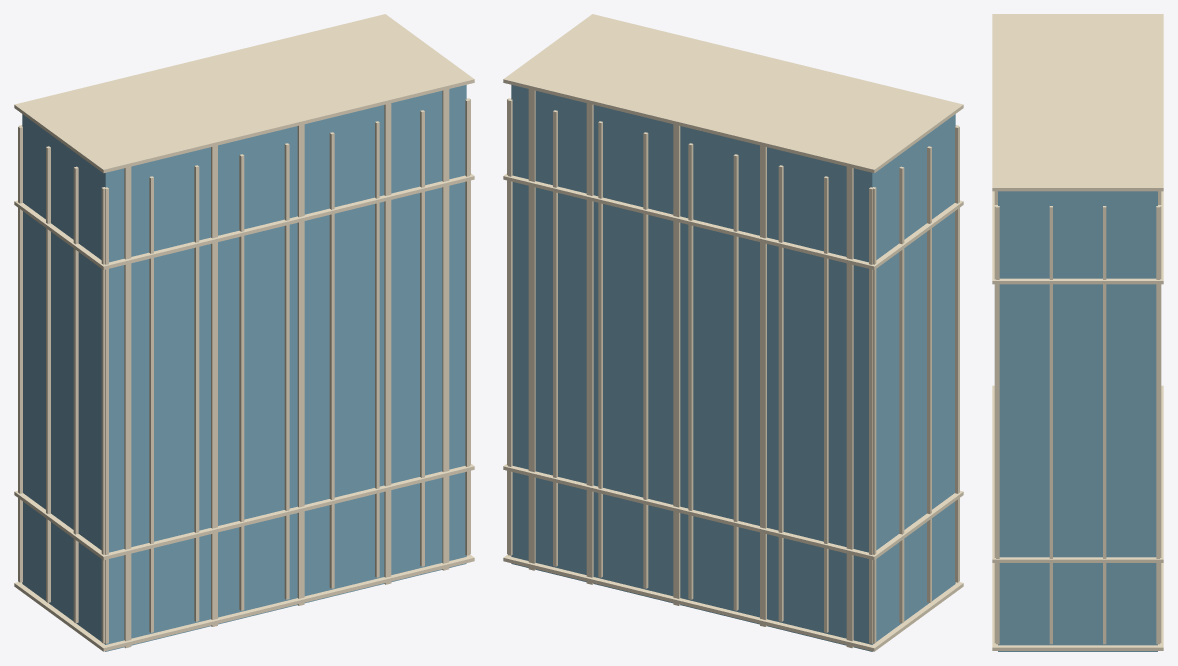
Rendered from modern-1-lod1.glb.
The picture shows the model from 3 angles, left to right: view 1: azimuth 30°, elevation 25°; view 2: azimuth 150°, elevation 25°; view 3: azimuth 270°, elevation 25°; orthographic projection. The views are drawn at different scales.
Parts seen in each view (by area): view 1: modern-1_architecture; view 2: modern-1_architecture; view 3: modern-1_architecture.
Part boxes in pixels (x1,y1,x2,y2): modern-1_architecture: [14, 14, 474, 651]; modern-1_architecture: [503, 14, 963, 651]; modern-1_architecture: [992, 14, 1163, 651].
Bounding box in the file's own units: 25.7 × 32.12 × 10.7.
